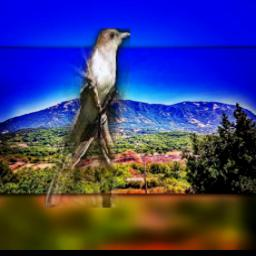Cuckoo: (46, 28, 131, 208)
